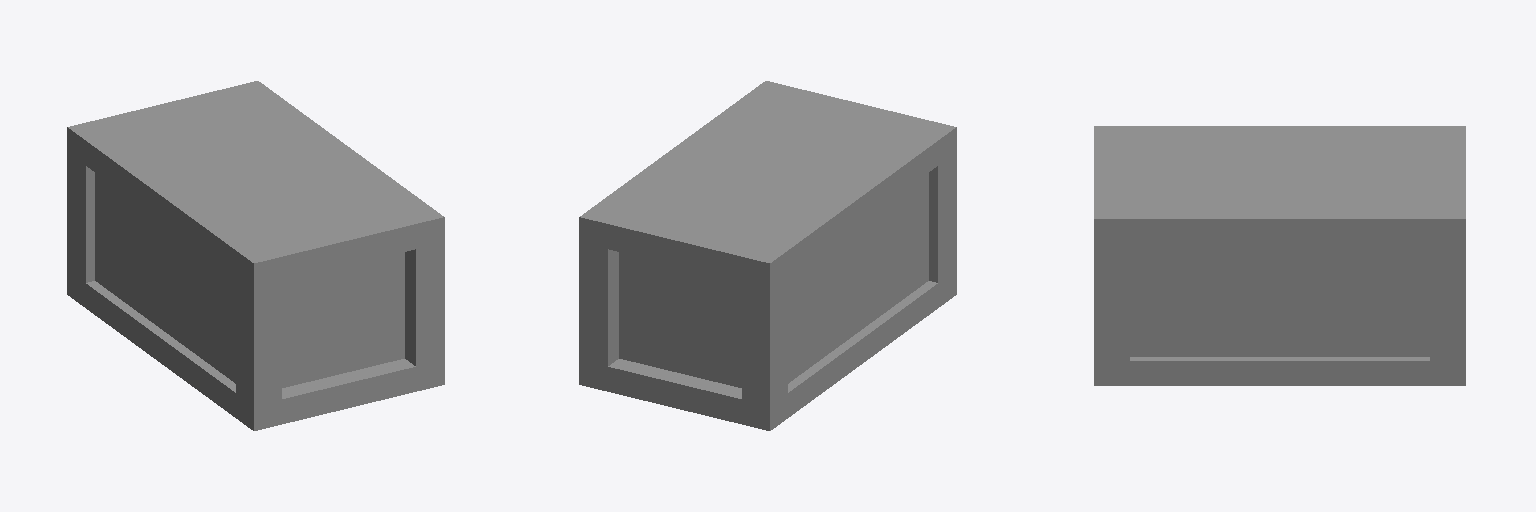
Rendered from counter.obj.
The picture shows the model from 3 angles: view 1: azimuth 30°, elevation 25°; view 2: azimuth 150°, elevation 25°; view 3: azimuth 270°, elevation 25°; orthographic projection.
Parts seen in each view (by area): view 1: Counters_Cube; view 2: Counters_Cube; view 3: Counters_Cube.
Part boxes in pixels (x1,y1,x2,y2): Counters_Cube: (67, 81, 444, 430); Counters_Cube: (579, 81, 956, 430); Counters_Cube: (1094, 126, 1465, 385).
Bounding box in the file's own units: 2.38 × 2 × 4.03.